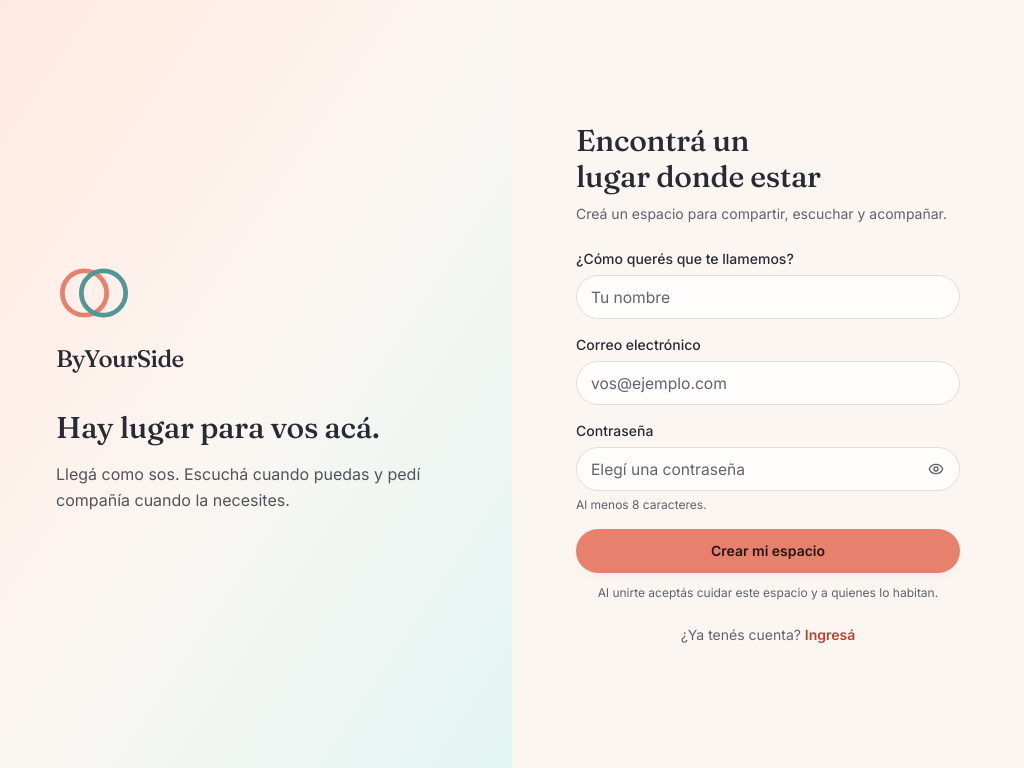
Test case: RegisterPage › keeps the email and shows a calm message when register fails
The image size is (1024, 768).
Type "Ana" into the field labelled "¿Cómo querés que te llamemos?" at (768, 297), box [576,275,960,319]
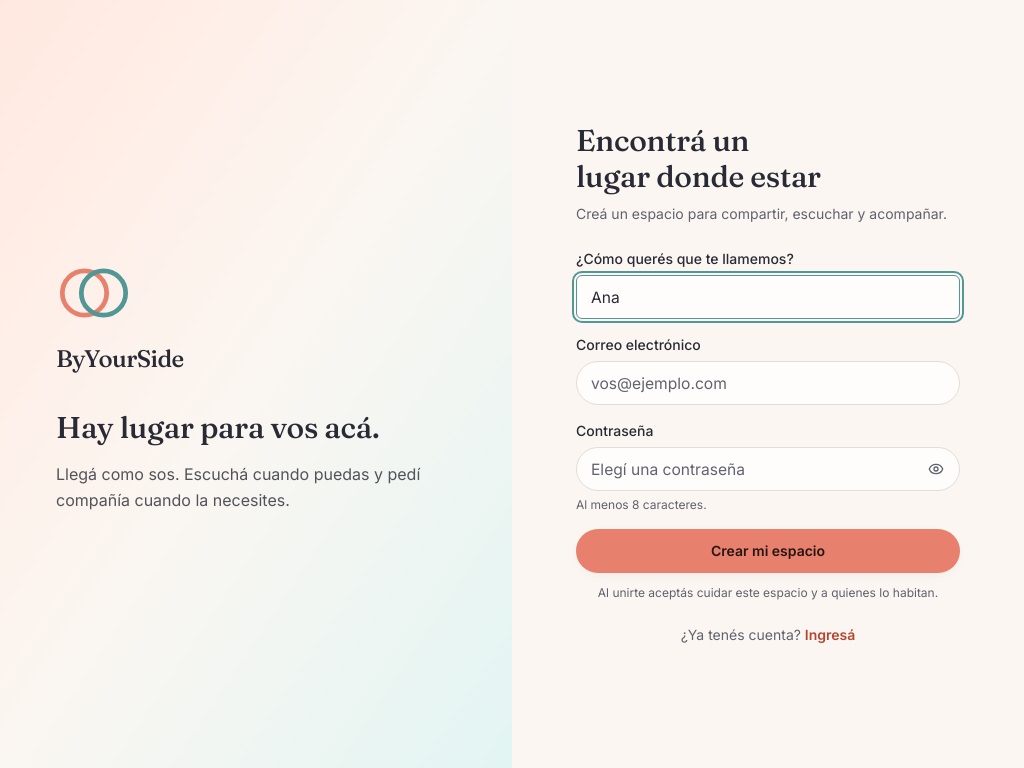
Type "ana@example.com" into the field labelled "Correo electrónico" at (768, 383), box [576,361,960,405]
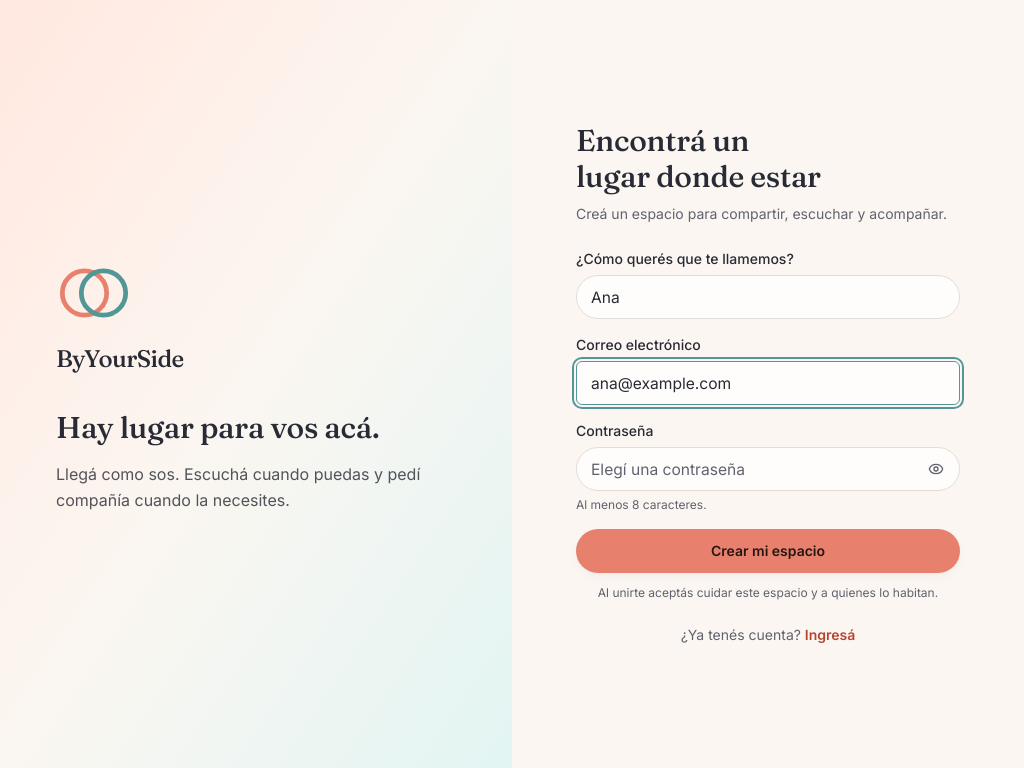
Type "secretpass" into the password field labelled "Contraseña" at (768, 469), box [576,447,960,491]
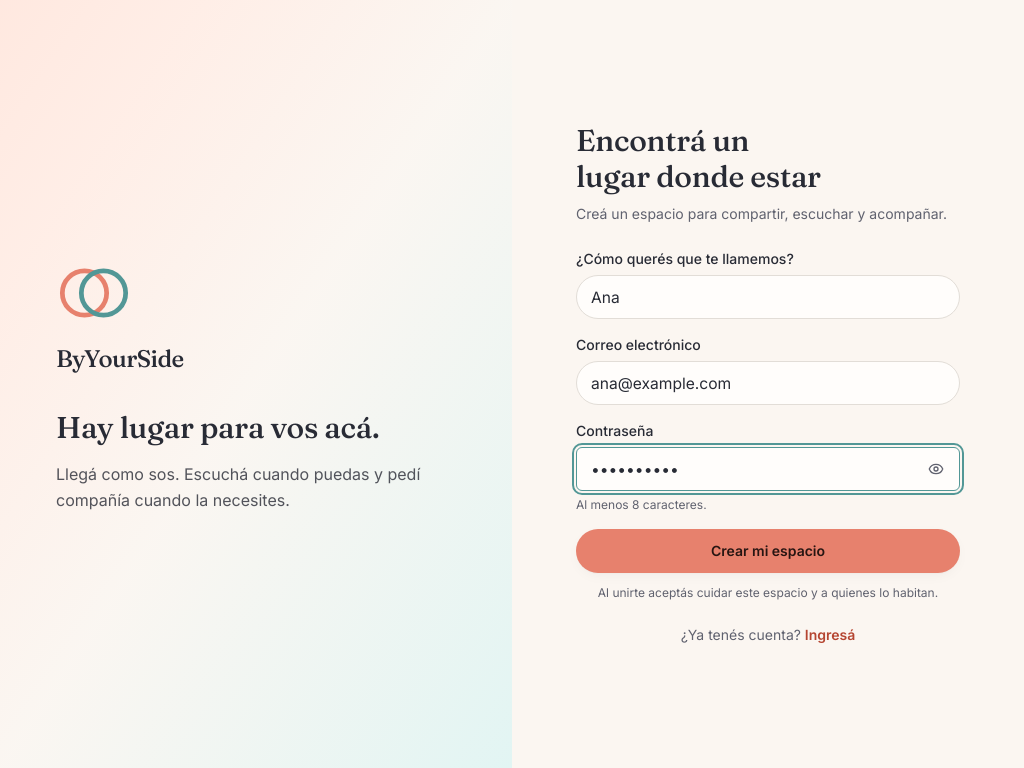
Click the button "Crear mi espacio" at (768, 551), box [576,529,960,573]
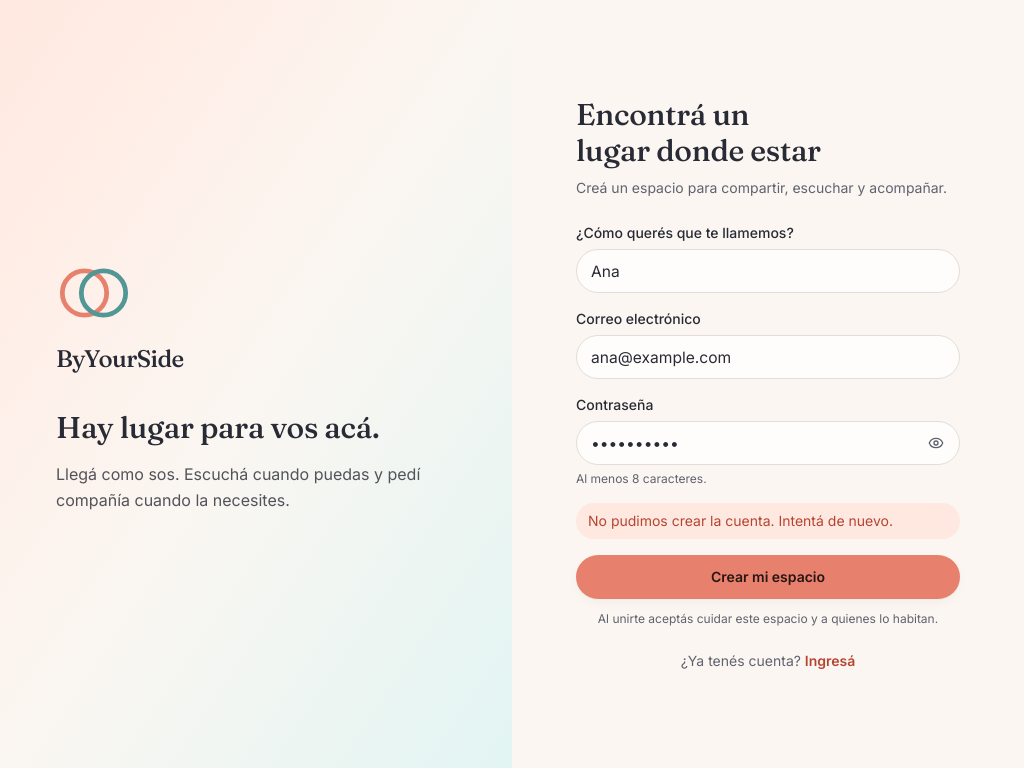
Expected: the button "Crear mi espacio" is enabled, [576,555,960,599]
Expected: the message reads "No pudimos crear la cuenta. Intentá de nuevo.", [588,512,893,529]
